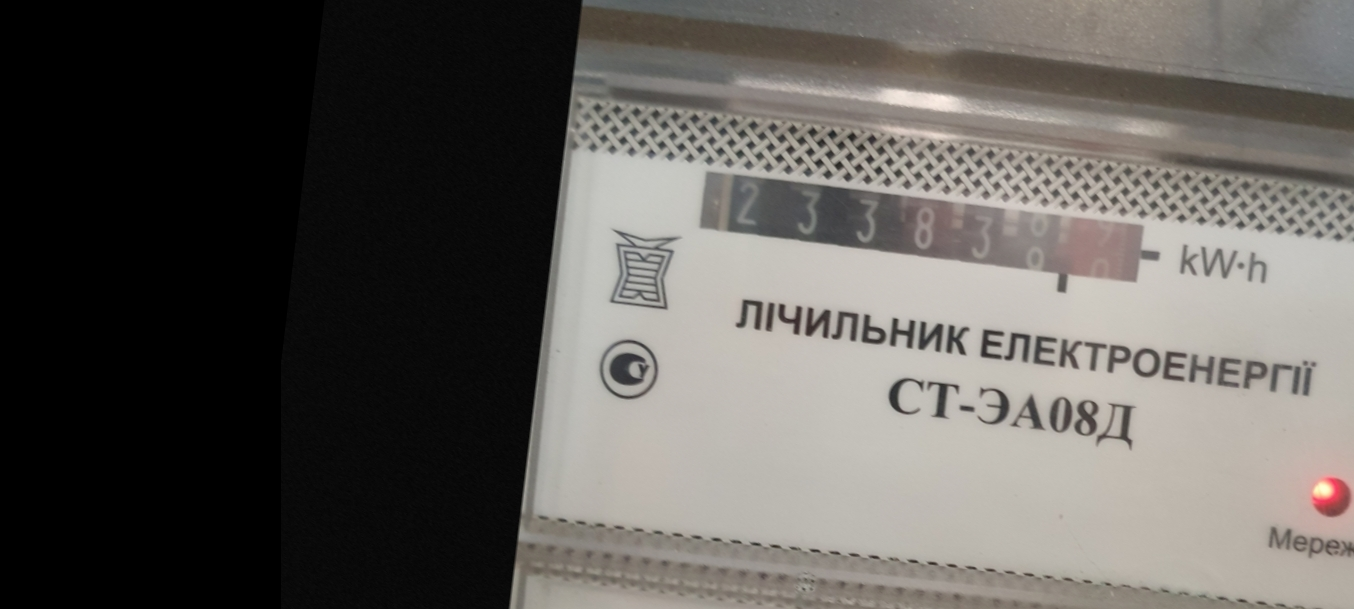0: (1086, 253, 1115, 281)
2: (731, 177, 764, 228)
3: (791, 186, 824, 238), (966, 210, 997, 261), (852, 195, 882, 247)
8: (909, 203, 939, 251), (1024, 211, 1055, 240)
9: (1020, 241, 1050, 273), (1090, 218, 1118, 249)
screen: (684, 158, 1163, 306)
